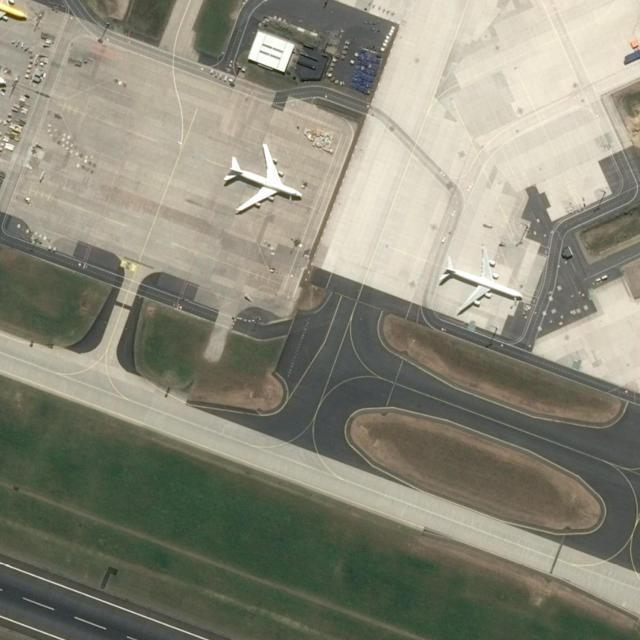Aircraft: (218, 144, 304, 224), (434, 255, 526, 317), (0, 1, 34, 29)
